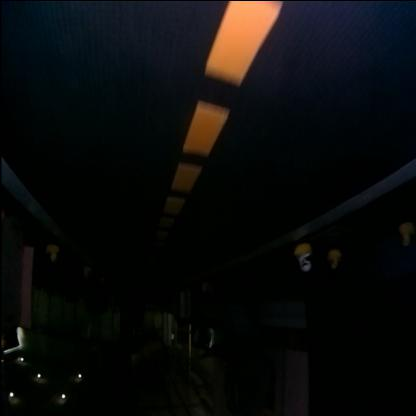Duckie: (294, 248, 312, 270), (399, 221, 413, 245), (328, 250, 340, 268)
